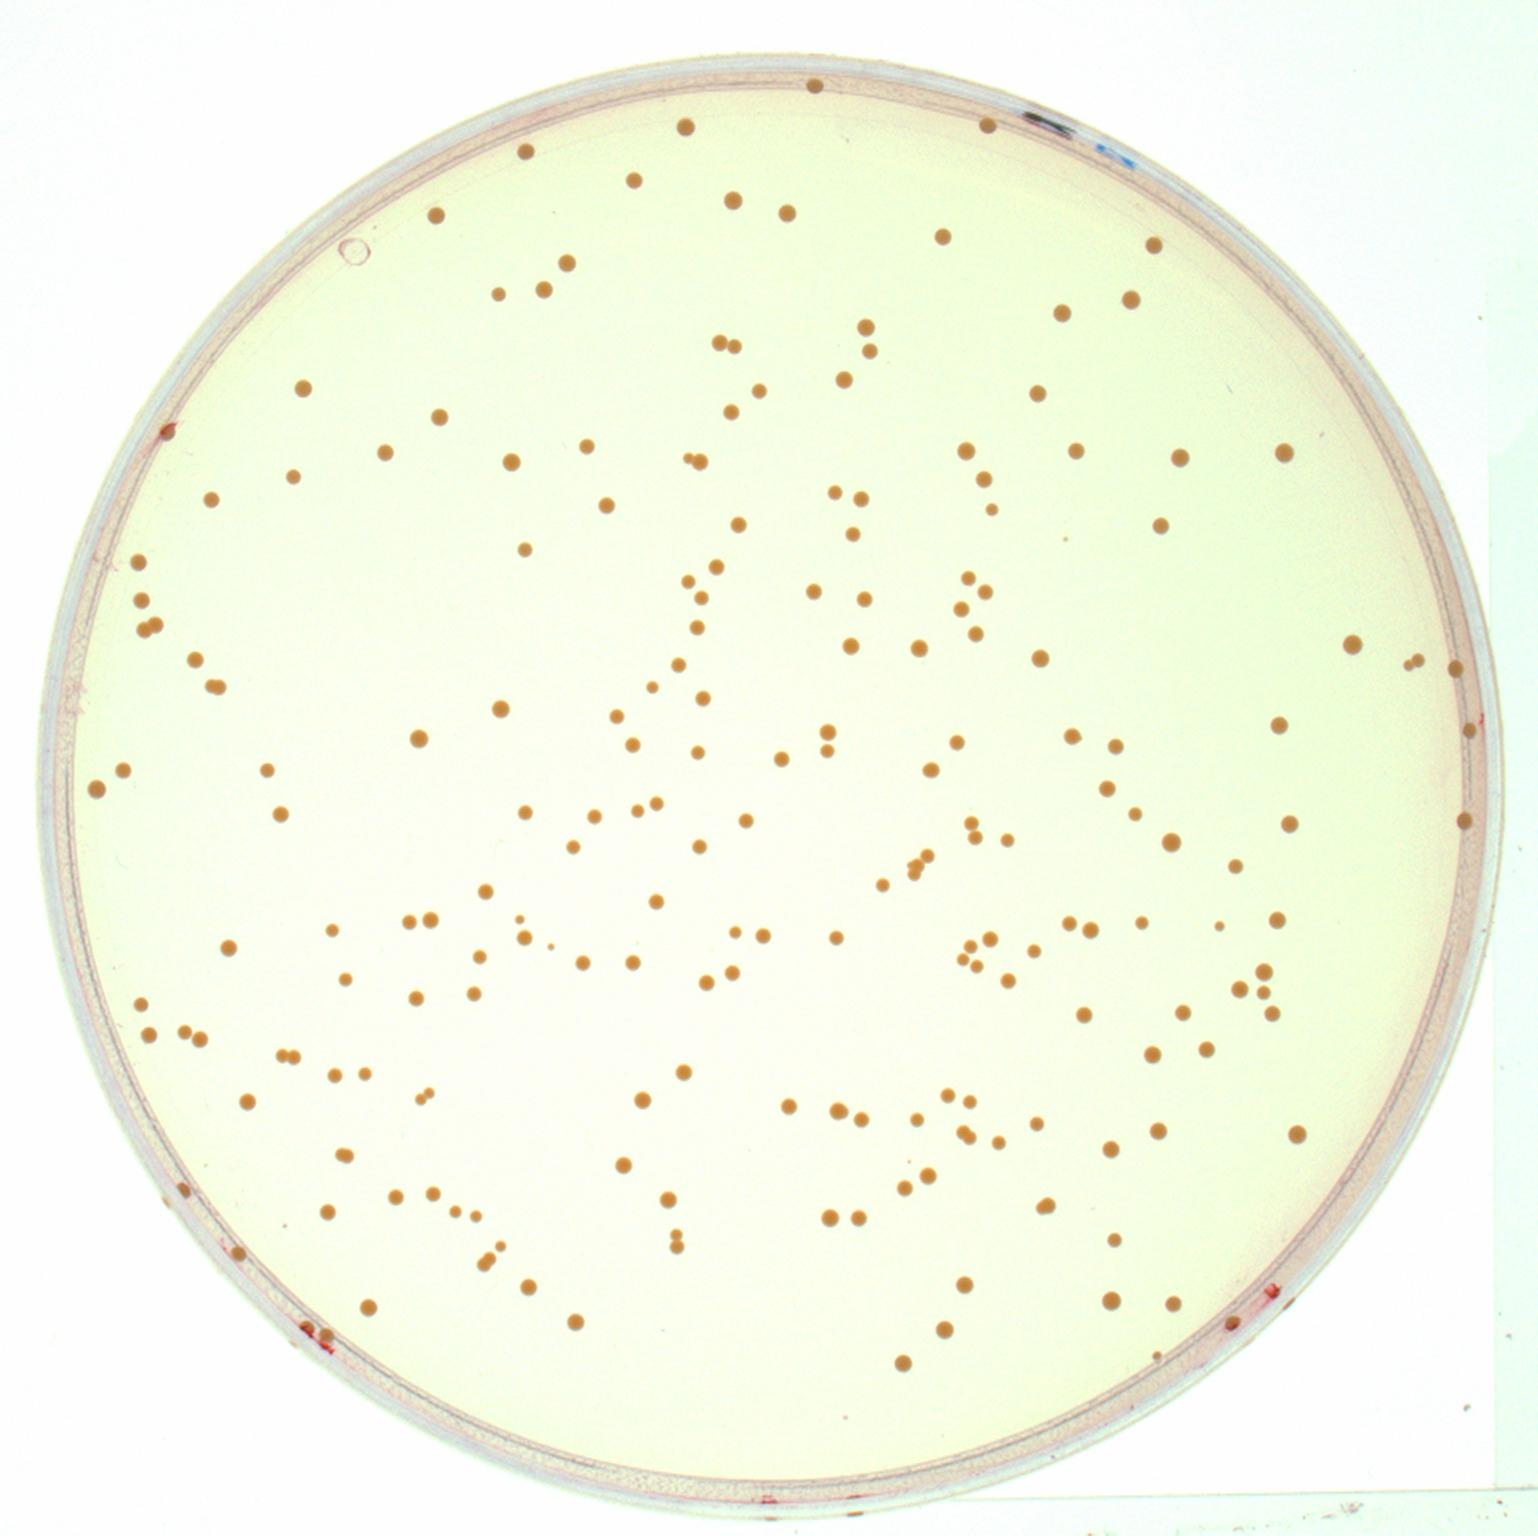colony: (1261, 904, 1290, 934), (1247, 955, 1275, 986), (1273, 809, 1302, 837), (1265, 712, 1293, 740), (1157, 827, 1183, 857), (1069, 1000, 1098, 1027), (1095, 1135, 1124, 1160), (1117, 288, 1144, 314), (1223, 852, 1250, 878), (1193, 1035, 1219, 1062), (1102, 1227, 1127, 1253), (622, 166, 646, 194), (720, 190, 746, 215), (514, 138, 539, 163), (1144, 1118, 1169, 1144), (656, 1187, 680, 1214), (1140, 1044, 1167, 1068), (1167, 446, 1193, 470), (500, 450, 523, 475), (1096, 776, 1120, 802), (1030, 646, 1053, 672), (1285, 1121, 1307, 1148), (1061, 723, 1083, 750), (775, 201, 799, 225), (554, 252, 578, 276), (630, 1089, 654, 1113), (1341, 633, 1365, 657), (1171, 1001, 1196, 1024), (1150, 515, 1172, 540), (802, 75, 826, 97), (832, 369, 856, 391), (954, 440, 978, 463), (1141, 233, 1164, 257), (594, 494, 618, 516), (236, 1090, 259, 1114), (818, 1207, 840, 1231), (1123, 803, 1147, 826), (1273, 440, 1296, 464), (1455, 807, 1477, 831), (778, 1093, 799, 1118), (709, 329, 730, 354), (977, 114, 999, 136), (425, 204, 447, 226), (1024, 1113, 1047, 1135), (490, 698, 512, 720), (675, 115, 697, 139), (1027, 381, 1048, 405), (533, 277, 553, 302), (1106, 734, 1124, 761), (854, 588, 875, 610), (1067, 440, 1088, 463), (933, 226, 954, 249), (428, 407, 450, 428), (612, 1153, 633, 1176), (1100, 1290, 1123, 1311), (408, 727, 429, 750), (86, 779, 108, 800), (132, 619, 153, 641), (749, 381, 768, 405), (357, 1297, 381, 1317), (146, 612, 166, 636), (856, 316, 877, 338), (736, 812, 757, 833), (909, 639, 930, 660), (622, 952, 643, 973), (827, 1100, 849, 1121), (674, 1062, 695, 1083), (158, 423, 179, 444), (293, 377, 314, 398), (841, 636, 861, 658), (920, 760, 943, 779), (947, 731, 967, 754), (1053, 302, 1072, 325), (577, 435, 597, 457), (729, 515, 749, 537), (464, 983, 484, 1006), (566, 1311, 585, 1333), (851, 1108, 871, 1131), (849, 1207, 868, 1229), (1262, 1003, 1282, 1025), (1081, 919, 1100, 941), (691, 452, 711, 474), (818, 722, 837, 743), (974, 468, 993, 489), (692, 588, 713, 608), (668, 655, 689, 675), (606, 706, 628, 726), (421, 909, 440, 930), (386, 1187, 405, 1208), (518, 1276, 538, 1297), (1130, 913, 1151, 933), (955, 1274, 975, 1295), (934, 1319, 954, 1340), (227, 1245, 248, 1265), (270, 805, 291, 824), (131, 591, 152, 610), (725, 336, 744, 357), (129, 551, 148, 574), (860, 342, 879, 361), (851, 489, 871, 509), (951, 599, 971, 619), (488, 284, 508, 304), (720, 402, 740, 422), (688, 617, 708, 637), (563, 837, 583, 857), (573, 952, 592, 972), (476, 882, 495, 902), (220, 938, 239, 958), (317, 1203, 336, 1222), (422, 1184, 442, 1204), (723, 964, 743, 983), (981, 930, 1000, 949), (895, 1179, 915, 1198), (1447, 660, 1466, 679), (1230, 980, 1250, 1000), (1223, 1314, 1243, 1333), (295, 1318, 315, 1338), (190, 1030, 210, 1049), (186, 650, 205, 670), (201, 489, 221, 509), (667, 1238, 687, 1257), (965, 622, 984, 643), (326, 1065, 345, 1086), (754, 926, 773, 947), (961, 813, 982, 831), (998, 972, 1019, 990), (892, 1355, 913, 1373), (173, 1180, 191, 1201), (1041, 1194, 1058, 1217), (843, 525, 861, 544), (958, 568, 978, 587), (376, 443, 394, 463), (691, 837, 709, 857), (584, 807, 602, 827), (515, 803, 535, 821), (400, 913, 418, 933), (356, 1065, 374, 1084), (697, 973, 716, 992), (827, 927, 846, 947), (1254, 982, 1272, 1001), (965, 828, 985, 847), (1058, 914, 1078, 933), (939, 1086, 957, 1106), (1461, 722, 1480, 740), (1164, 1294, 1182, 1314), (139, 1027, 159, 1045), (114, 761, 132, 781), (474, 1256, 492, 1276), (805, 581, 822, 602), (977, 582, 993, 603), (515, 540, 536, 557), (708, 557, 725, 578), (212, 675, 228, 698), (818, 743, 836, 761), (773, 750, 791, 768), (694, 689, 712, 708), (688, 743, 706, 761), (623, 736, 642, 754), (515, 928, 533, 947), (677, 572, 697, 589), (647, 892, 664, 911), (408, 989, 425, 1009), (1212, 916, 1228, 935), (962, 937, 979, 956), (908, 1111, 927, 1128), (258, 761, 274, 781), (1410, 650, 1427, 670), (288, 1047, 304, 1068), (826, 484, 843, 502), (647, 795, 666, 812), (471, 948, 488, 966), (324, 921, 341, 940), (999, 831, 1016, 850), (967, 956, 984, 975), (961, 1093, 978, 1111), (317, 1328, 335, 1345), (176, 1024, 194, 1041), (132, 996, 151, 1013), (284, 468, 301, 487), (909, 855, 927, 872), (919, 1166, 934, 1186), (629, 802, 646, 819), (336, 972, 353, 989), (483, 1248, 500, 1265), (1400, 657, 1417, 674), (874, 878, 892, 893), (727, 923, 743, 941), (962, 1129, 978, 1148), (954, 1122, 970, 1141), (905, 869, 923, 885), (342, 1146, 356, 1166), (919, 845, 934, 862), (644, 679, 660, 696), (447, 1203, 463, 1220), (1026, 944, 1043, 959), (991, 1134, 1006, 1151), (274, 1047, 288, 1065), (469, 1208, 484, 1224), (422, 1084, 438, 1100), (680, 450, 695, 466), (985, 502, 999, 519), (333, 1145, 346, 1163), (957, 951, 971, 966), (668, 1227, 684, 1241), (414, 1092, 428, 1107), (203, 677, 215, 693), (1034, 1200, 1046, 1217), (514, 913, 526, 927), (494, 1238, 507, 1252), (1151, 1350, 1164, 1360), (545, 941, 554, 951), (905, 859, 913, 869)
